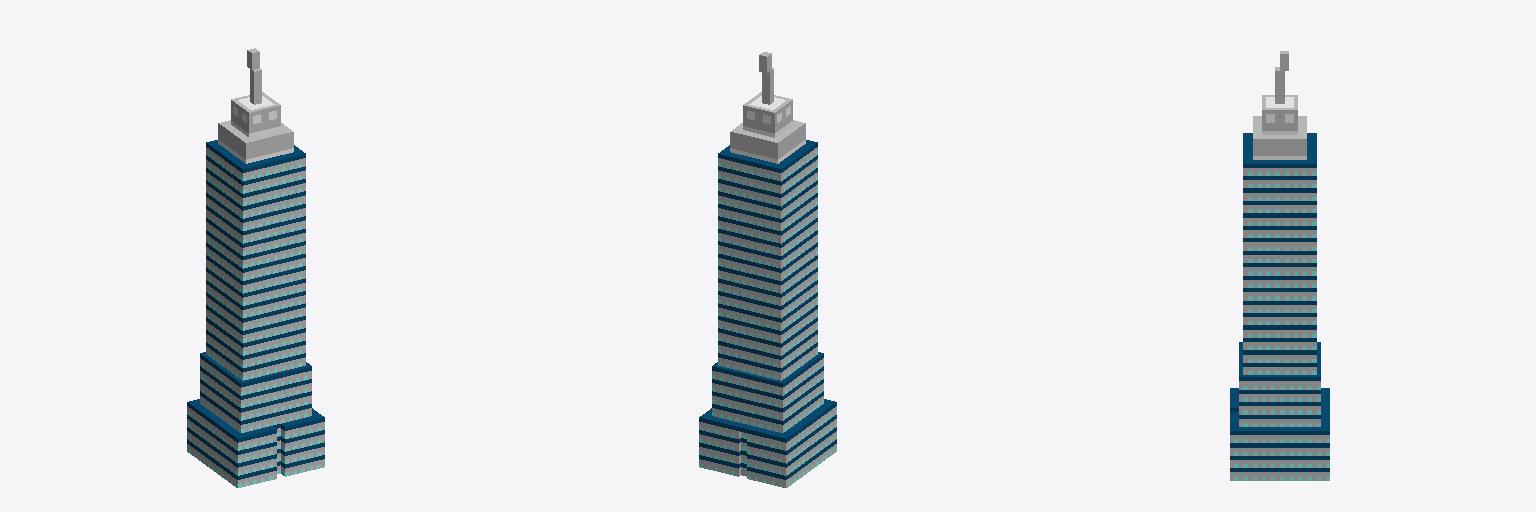
3 renders of one model, left to right at view 1: azimuth 30°, elevation 25°; view 2: azimuth 150°, elevation 25°; view 3: azimuth 270°, elevation 25°, orthographic.
Parts seen in each view (by area): view 1: torreLat; view 2: torreLat; view 3: torreLat.
Boxes of the visible parts, <box> form: torreLat: <box>187,48,324,487</box>; torreLat: <box>699,52,836,487</box>; torreLat: <box>1230,51,1329,480</box>.
Size of the model in its own units: 22 by 98 by 22.
1 materials, 1 textured.